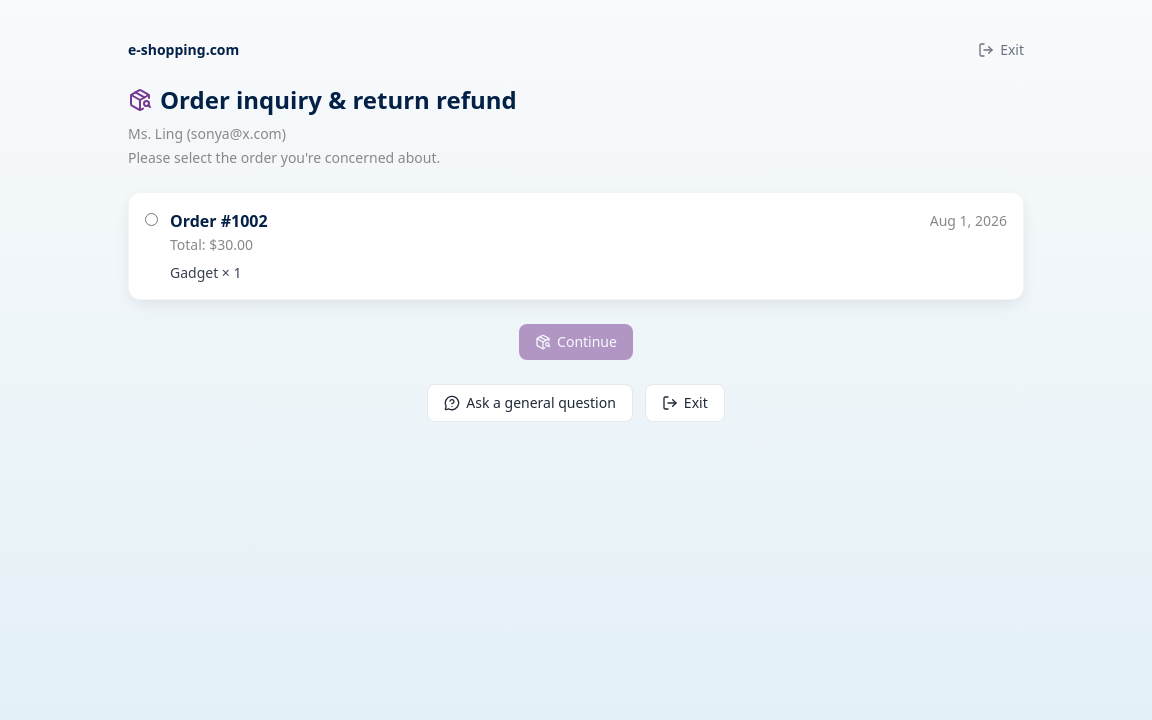
OrderInquiryPage › grays out 'Back to order selection' with only one order, but offers general inquiry as an escape hatch
This screenshot has width=1152, height=720.
Expected: the text "Order #1002" is shown, [170, 209, 268, 233]
Click the radio button: coordinates (152, 220) [145, 213, 158, 226]
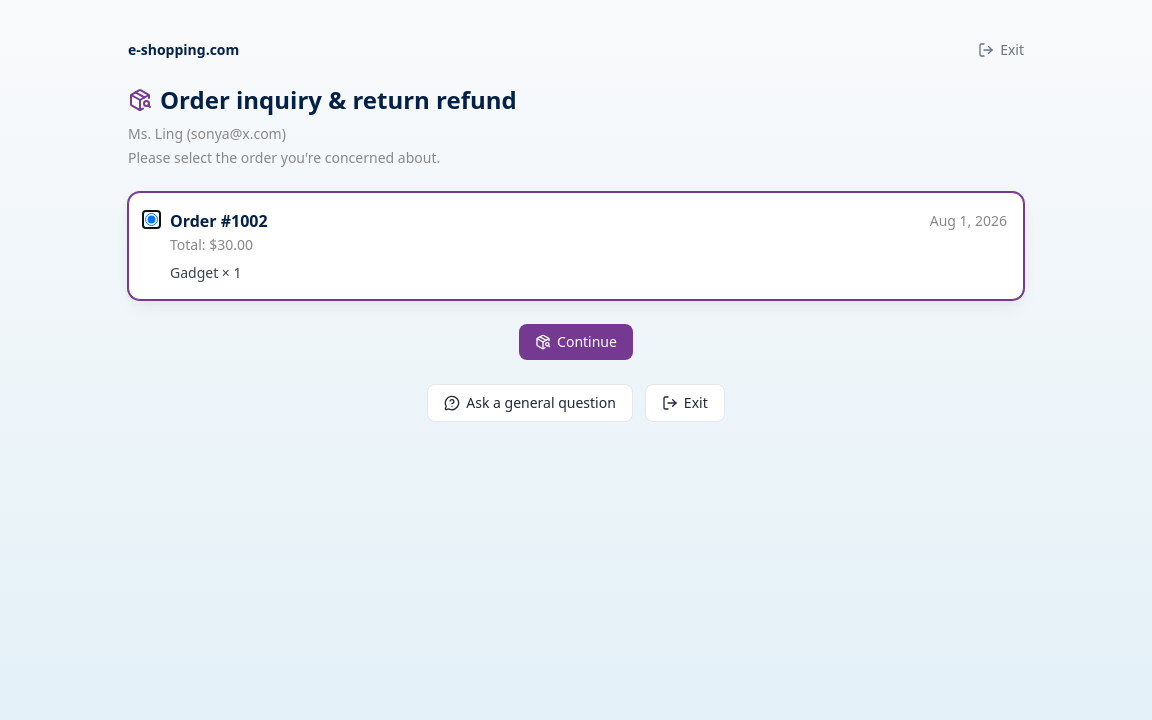
Click the button "Continue": coordinates (576, 342) [519, 324, 633, 360]
(page scrolled)
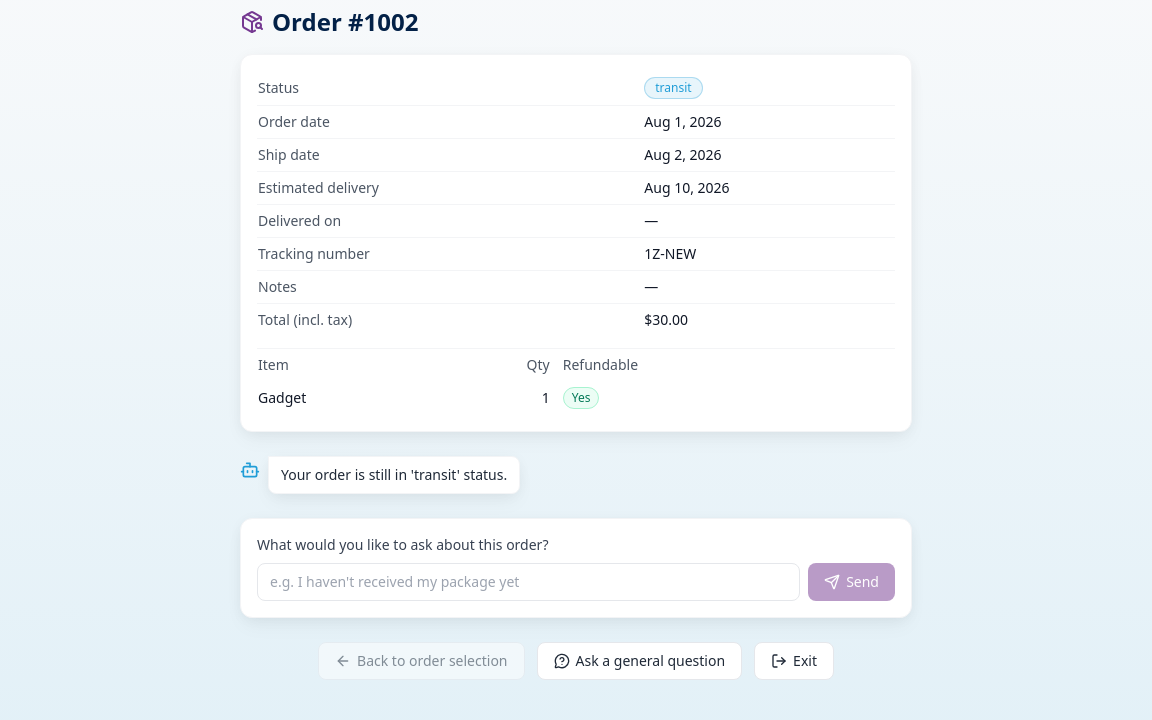
Expected: the button "Ask a general question" is enabled, [536, 642, 742, 680]
Now the text "Your order is still in 'transit' status." is shown, box [268, 456, 520, 494]
Now the button "Back to order selection" is disabled, box [318, 642, 524, 680]
